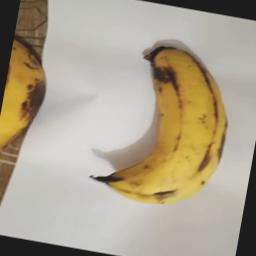Banana Unripe: (85, 36, 240, 214)
